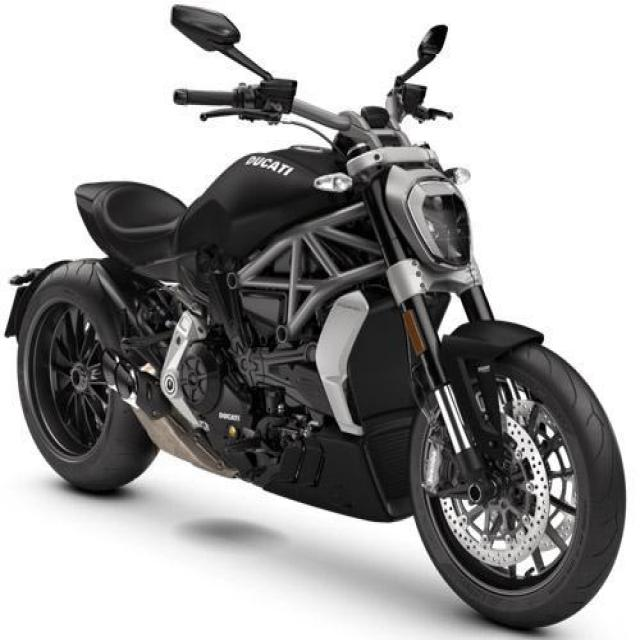motorcycle: (5, 16, 618, 628)
